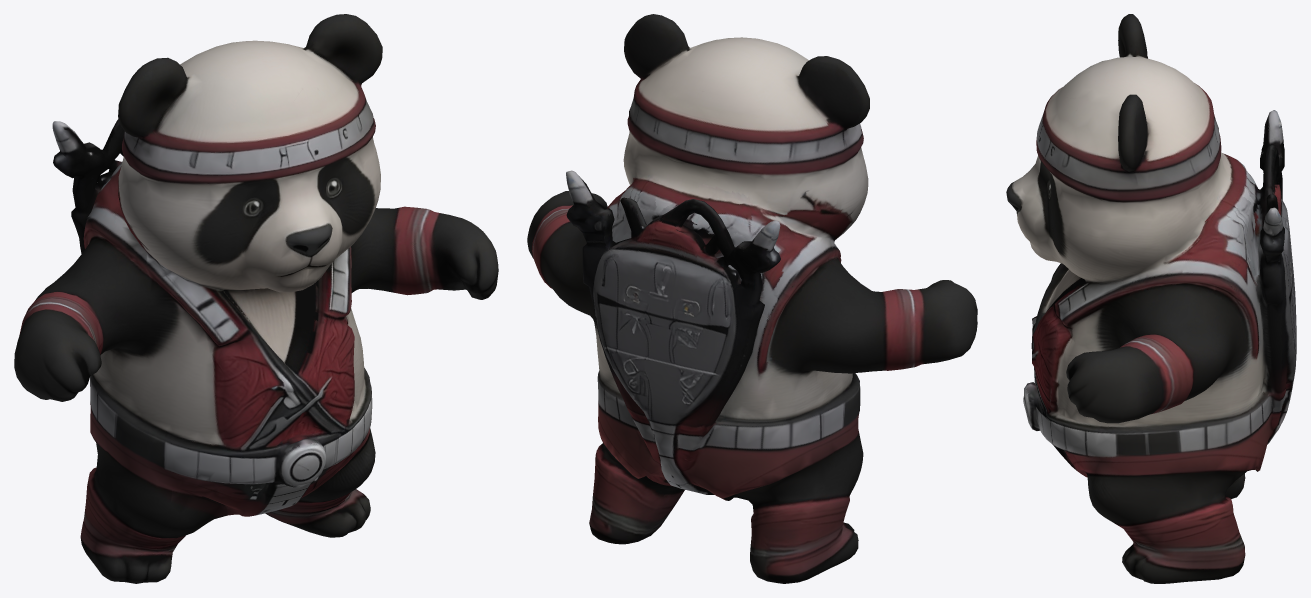
File: panda.glb
3 renders of one model, left to right at view 1: azimuth 30°, elevation 25°; view 2: azimuth 150°, elevation 25°; view 3: azimuth 270°, elevation 25°, orthographic. The views are drawn at different scales.
Parts seen in each view (by area): view 1: AssetGen; view 2: AssetGen; view 3: AssetGen.
Boxes of the visible parts, x1,y1,x2,y2 form: AssetGen: (14, 14, 498, 583); AssetGen: (527, 14, 977, 583); AssetGen: (1006, 14, 1296, 583).
Size of the model in its own units: 1.87 by 2 by 1.11.
Materials: 1 (1 with a texture image).
